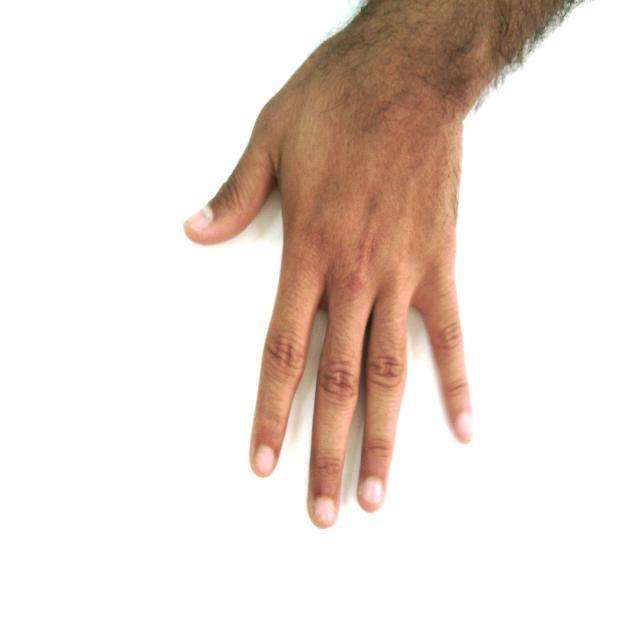Fingernail: (186, 207, 212, 231), (362, 479, 382, 506), (256, 446, 274, 474), (315, 498, 334, 524), (456, 415, 472, 441)
